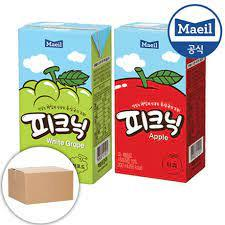picnic_apple: (112, 21, 197, 181)
